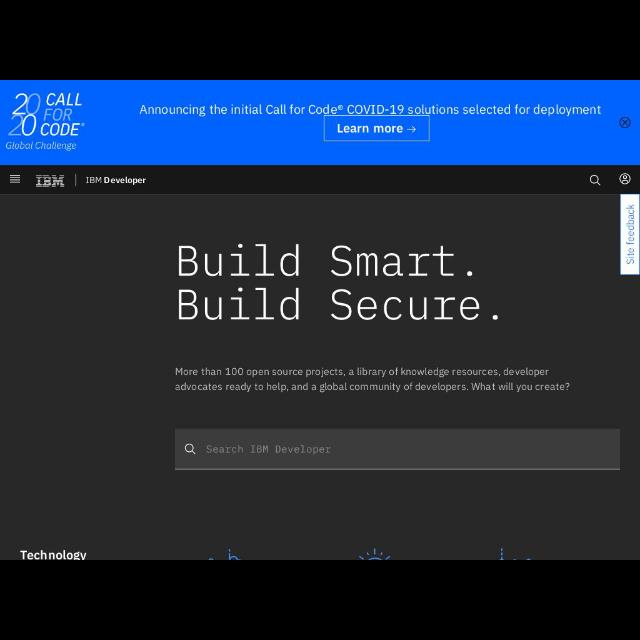icon: (184, 444, 196, 454), (590, 174, 600, 186), (10, 173, 20, 183), (620, 174, 630, 184), (622, 117, 630, 129), (408, 126, 414, 132)
image: (5, 88, 84, 150), (36, 174, 64, 188)
input: (176, 428, 620, 469)
text: (177, 244, 499, 326), (175, 368, 571, 394), (142, 104, 602, 116), (206, 446, 330, 454), (19, 547, 86, 559), (86, 174, 146, 186), (336, 124, 402, 134), (626, 204, 636, 266)
textbutton: (324, 116, 430, 142)
toolbar: (1, 164, 639, 193)
